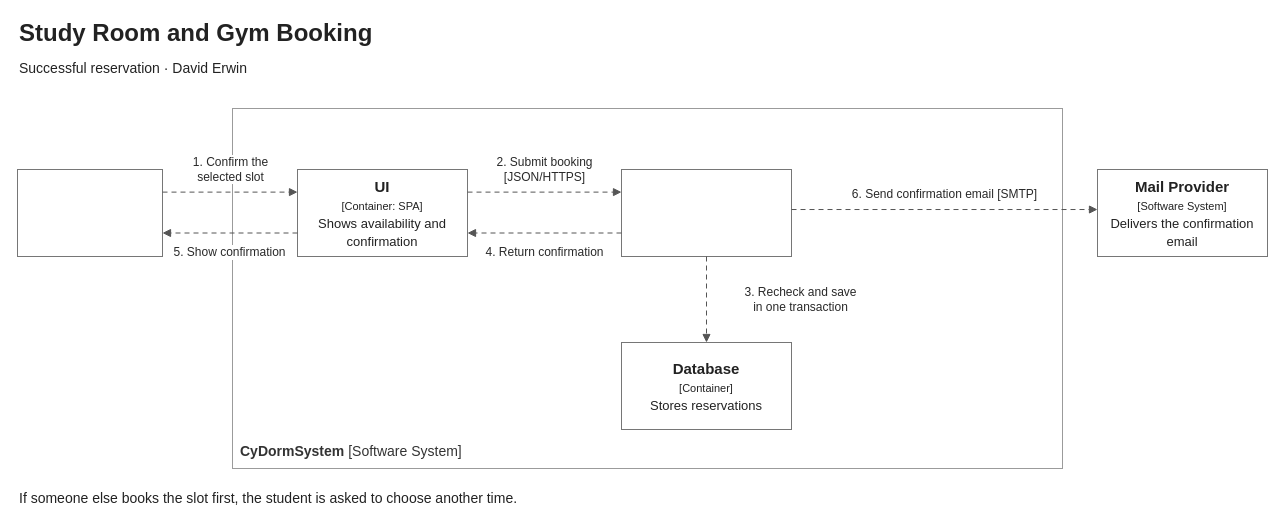
The diagram is 1285 pixels wide and 529 high, and some of its shapes have lost their labels. Here are the shapes that lost their labels. From the top down, the centre of each, then its label:
At (89,212): "Student [Person] Has chosen a slot".
At (706,212): "API Application [Container] Checks access and handles the booking".
